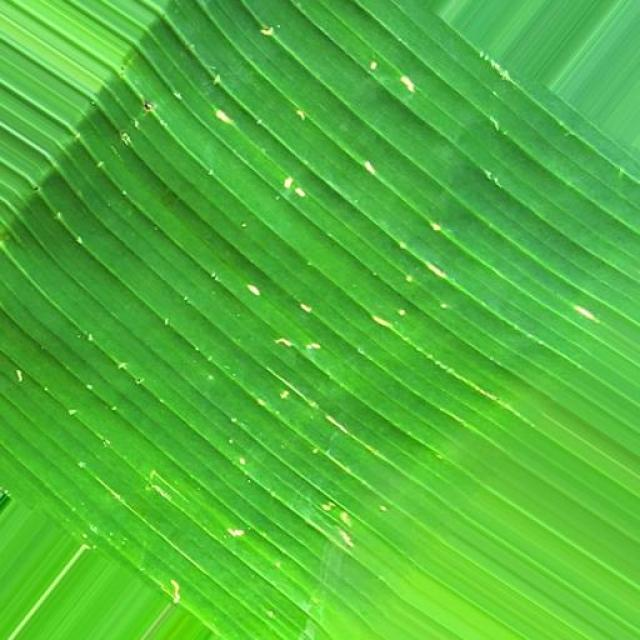Black_rot: (33, 9, 594, 622)
